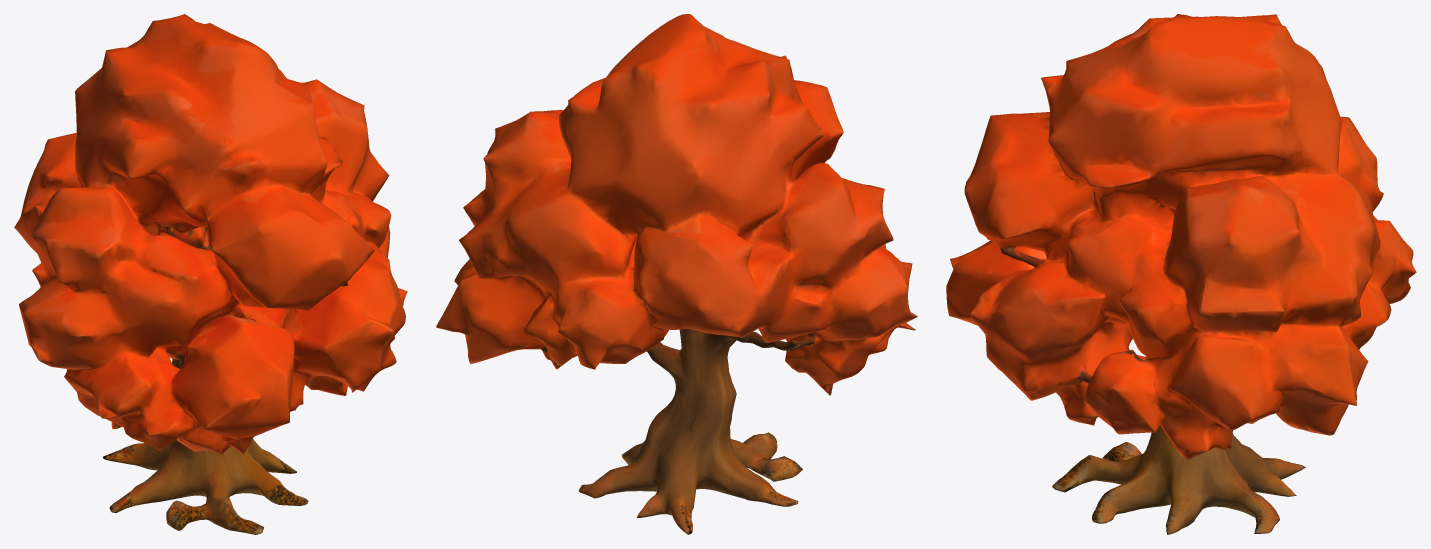
Rendered from meshy_019a798f-2d4c-7f14-a90b-5d4781d32c59.fbx.
3 views of the same model, side by side, from view 1: azimuth 30°, elevation 25°; view 2: azimuth 150°, elevation 25°; view 3: azimuth 270°, elevation 25° (orthographic). The views are drawn at different scales.
Visible parts, largest first — view 1: input; view 2: input; view 3: input.
Part boxes in pixels (left/top/right/bottom): input: left=14, top=14, right=407, bottom=534; input: left=436, top=14, right=917, bottom=534; input: left=946, top=14, right=1416, bottom=534.
Size of the model in its own units: 181 by 191 by 170.
1 material, 1 textured.
